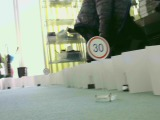speed_30: (85, 34, 111, 59)
